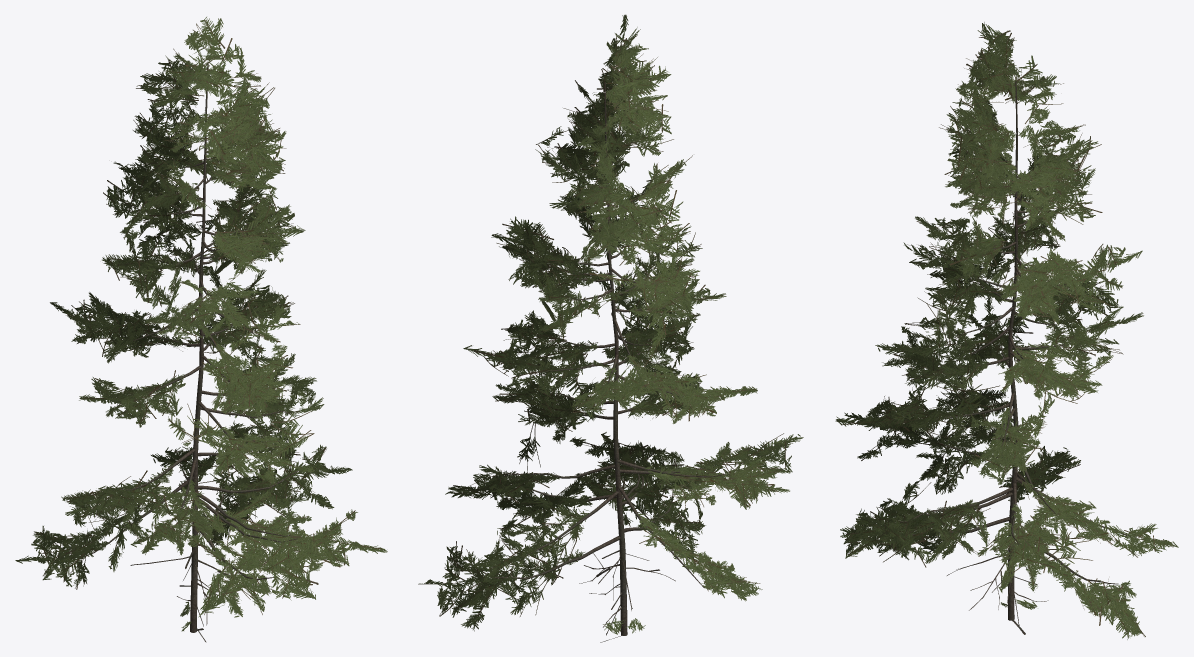
The picture shows the model from 3 angles, left to right: view 1: azimuth 30°, elevation 25°; view 2: azimuth 150°, elevation 25°; view 3: azimuth 270°, elevation 25°; orthographic projection. The views are drawn at different scales.
Visible parts, largest first — view 1: fir_sapling_medium__b_lod1; view 2: fir_sapling_medium__b_lod1; view 3: fir_sapling_medium__b_lod1.
Boxes of the visible parts, x1=… form: fir_sapling_medium__b_lod1: x1=15, y1=17, x2=387, y2=642; fir_sapling_medium__b_lod1: x1=418, y1=14, x2=803, y2=642; fir_sapling_medium__b_lod1: x1=835, y1=22, x2=1178, y2=639.
Bounding box in the file's own units: 4.28 × 7.82 × 4.
Materials: 2 (2 with a texture image).
